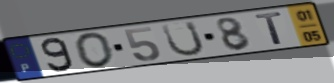5: (122, 25, 162, 63)
8: (216, 16, 253, 52)
9: (40, 36, 75, 73)
O: (73, 31, 116, 69)
T: (253, 11, 286, 47)
U: (159, 20, 207, 58)
